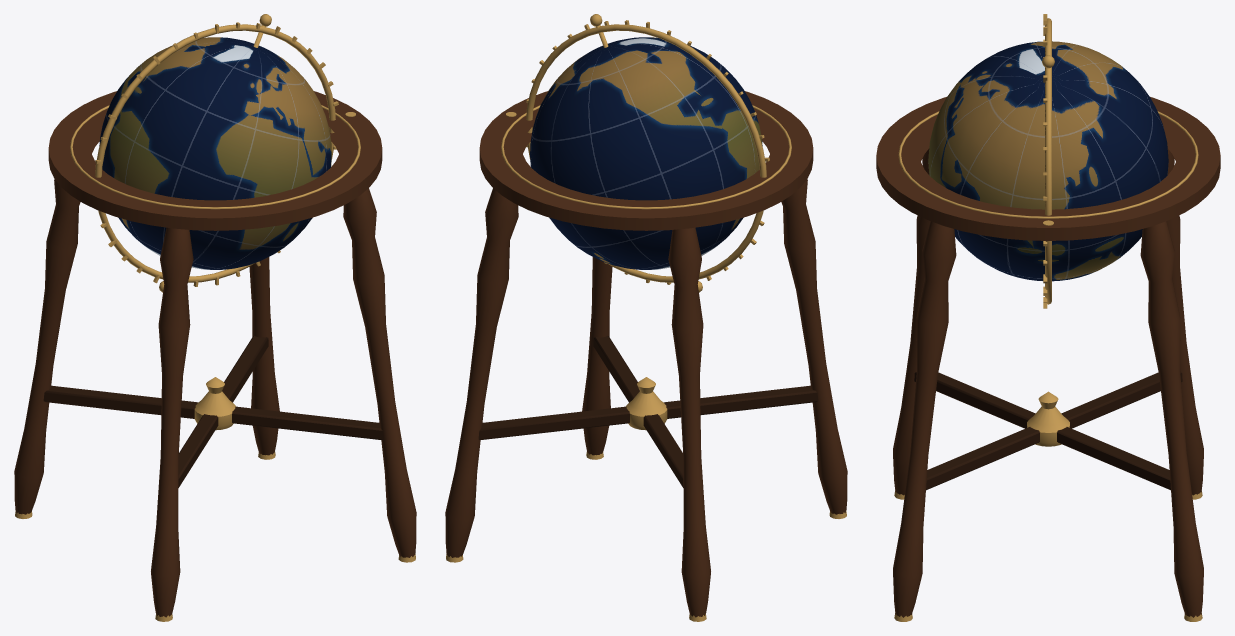
File: globe.glb
3 views of the same model, side by side, from view 1: azimuth 30°, elevation 25°; view 2: azimuth 150°, elevation 25°; view 3: azimuth 270°, elevation 25° (orthographic). The views are drawn at different scales.
Visible parts, largest first — view 1: globe_walnut, globe_globe_map, globe_walnut_dark, globe_brass; view 2: globe_walnut, globe_globe_map, globe_brass, globe_walnut_dark; view 3: globe_walnut, globe_globe_map, globe_walnut_dark, globe_brass.
Boxes of the visible parts, x1,y1,x2,y2 form: globe_walnut: (14,91,416,617); globe_globe_map: (99,37,331,269); globe_walnut_dark: (43,336,383,487); globe_brass: (15,14,415,621); globe_walnut: (445,91,847,617); globe_globe_map: (530,37,762,269); globe_brass: (446,14,846,621); globe_walnut_dark: (478,336,818,487); globe_walnut: (876,97,1220,617); globe_globe_map: (928,41,1168,281); globe_walnut_dark: (914,372,1182,490); globe_brass: (894,14,1202,621).
Size of the model in its own units: 0.63 by 1.07 by 0.63.
4 materials, 1 textured.
